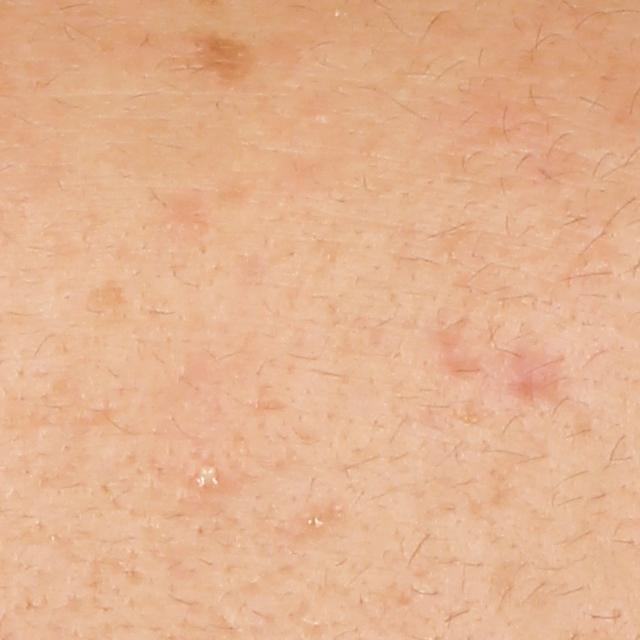pustule: (189, 455, 231, 493)
